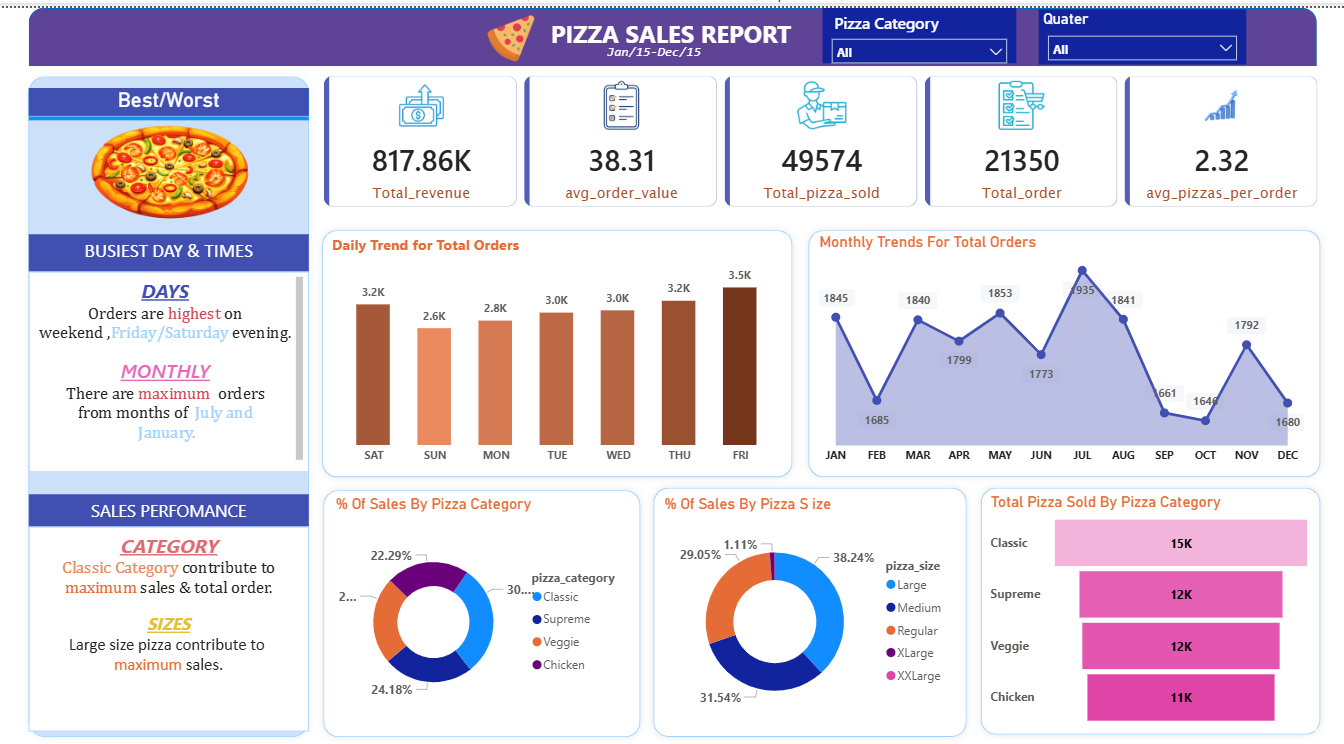

This screenshot's page, from the dashboard's own definition file:
{"tool":"powerbi","page":{"name":"Home","canvas":[1500,820],"ordinal":0},"visuals":[{"type":"cardVisual","fields":{"Data":["pizza_sales.Total_revenue","pizza_sales.avg_order_value","pizza_sales.Total_pizza_sold","pizza_sales.Total_order","pizza_sales.avg_pizzas_per_order"]},"box":[343.8,58.8,1145,180],"z":0},{"type":"shape","box":[32.5,0,1435,65],"z":1000},{"type":"textbox","box":[608.8,6.2,282.5,52.5],"z":2000},{"type":"textbox","box":[671.3,34.8,136.5,44.6],"z":3000},{"type":"image","box":[528.8,7.5,80,53.8],"z":4000},{"type":"shape","box":[351.2,240,540,291.2],"z":5000},{"type":"shape","box":[892.7,239.5,586.3,291.1],"z":6000},{"type":"areaChart","title":"Monthly Trends  For Total Orders","fields":{"Category":["pizza_sales.Order_Month"],"Y":["pizza_sales.Total_order"]},"box":[908,250.7,550.1,266],"z":7000},{"type":"columnChart","title":"Daily Trend for Total Orders","fields":{"Category":["pizza_sales.Order_day"],"Y":["pizza_sales.Total_order"]},"box":[365,252.5,512.5,265],"z":8000},{"type":"shape","box":[720,526.2,365,293.8],"z":9000},{"type":"shape","box":[352.3,529.2,369.1,291.1],"z":10000},{"type":"shape","box":[1084.9,526.4,394.1,291.1],"z":11000},{"type":"donutChart","title":"% Of Sales By Pizza Category","fields":{"Category":["pizza_sales.pizza_category"],"Y":["Sum(pizza_sales.quantity)"]},"box":[369.1,541.7,337,266],"z":12000},{"type":"donutChart","title":" % Of Sales By Pizza S ize","fields":{"Y":["Sum(pizza_sales.quantity)"],"Category":["pizza_sales.pizza_size"]},"box":[735,541.2,336.2,265],"z":13000},{"type":"funnel","title":"Total Pizza Sold By Pizza Category","fields":{"Category":["pizza_sales.pizza_category"],"Y":["pizza_sales.Total_pizza_sold"]},"box":[1098.8,540.4,367.7,264.6],"z":14000},{"type":"shape","box":[23.7,68.2,328.7,752],"z":15000},{"type":"textbox","box":[32,252.1,312,41.8],"z":16000},{"type":"textbox","box":[32,293.9,312,222.8],"z":17000},{"type":"textbox","box":[32,541.7,312,36.2],"z":18000},{"type":"textbox","box":[32,578,312,228.4],"z":19000},{"type":"slicer","fields":{"Values":["pizza_sales.pizza_category"]},"box":[916.4,0,215.9,61.3],"z":20000},{"type":"slicer","title":" Quater","fields":{"Values":["pizza_sales.order_date.Variation.Date Hierarchy.Quarter"]},"box":[1157.3,1.4,231.2,61.3],"z":21000},{"type":"actionButton","title":"Best/Worst","box":[32,89.1,312,36.2],"z":22000},{"type":"image","box":[32,123.9,312,128.1],"z":23000}]}

Visuals, with their boxes in screenshot pixels (x1, y1, x2, y2), scaled from the page's 1500x820 canvas onto the 1344x744 screenshot:
cardVisual - pizza_sales.Total_revenue x pizza_sales.avg_order_value: 308,53,1334,217
shape: 29,0,1315,59
textbox: 545,6,799,53
textbox: 601,32,724,72
image: 474,7,545,56
shape: 315,218,799,482
shape: 800,217,1325,481
"Monthly Trends  For Total Orders" areaChart: 814,227,1306,469
"Daily Trend for Total Orders" columnChart: 327,229,786,470
shape: 645,477,972,743
shape: 316,480,646,743
shape: 972,478,1325,742
"% Of Sales By Pizza Category" donutChart: 331,491,633,733
" % Of Sales By Pizza S ize" donutChart: 659,491,960,731
"Total Pizza Sold By Pizza Category" funnel: 985,490,1314,730
shape: 21,62,316,743
textbox: 29,229,308,267
textbox: 29,267,308,469
textbox: 29,491,308,524
textbox: 29,524,308,732
slicer - pizza_sales.pizza_category: 821,0,1015,56
" Quater" slicer: 1037,1,1244,57
"Best/Worst" actionButton: 29,81,308,114
image: 29,112,308,229
